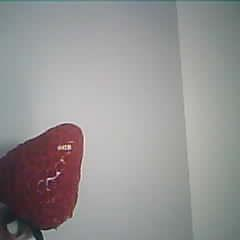straw-ripe: (1, 124, 85, 229)
